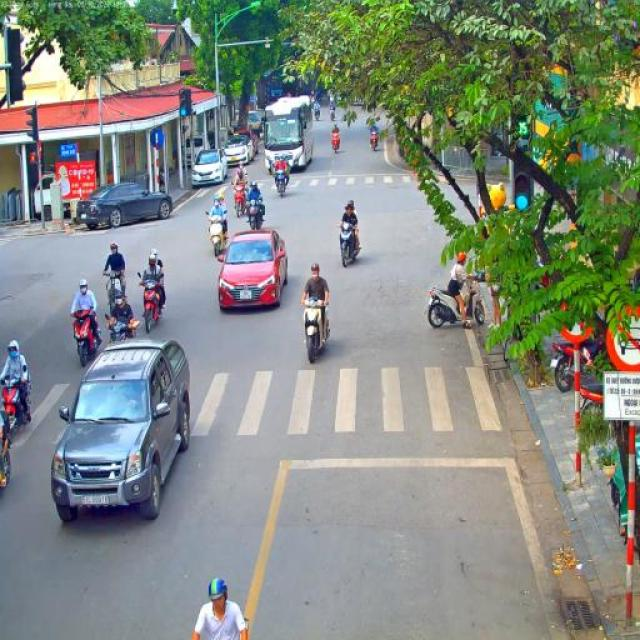bus: (492, 62, 582, 216), (262, 94, 314, 174), (257, 70, 298, 110)
car: (49, 338, 192, 522), (218, 229, 288, 310), (76, 180, 173, 230), (192, 149, 228, 186), (221, 132, 254, 168), (234, 130, 258, 160)
motorcycle: (425, 273, 490, 328), (550, 333, 602, 391), (300, 296, 330, 364), (0, 368, 31, 432), (70, 308, 102, 368), (138, 272, 166, 333), (338, 220, 362, 268), (206, 210, 230, 258), (105, 320, 144, 344), (0, 412, 12, 487), (578, 382, 606, 413), (106, 271, 124, 318), (246, 200, 266, 230), (232, 183, 248, 218), (272, 167, 289, 198), (330, 131, 340, 154), (370, 128, 379, 152), (314, 108, 320, 121), (330, 108, 336, 121), (310, 98, 316, 111)
truck: (34, 169, 108, 222), (232, 111, 262, 138)
